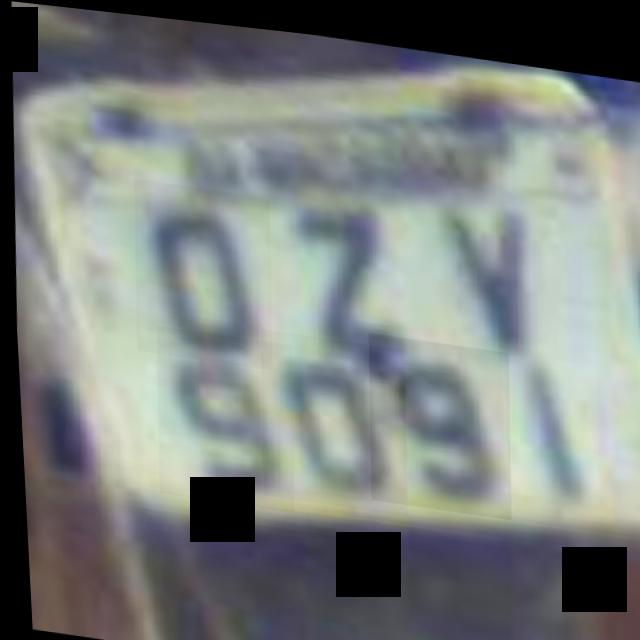0: (251, 322, 408, 507)
1: (493, 341, 599, 492)
9: (359, 323, 512, 509), (147, 322, 295, 506)
O: (126, 175, 274, 364)
Y: (418, 175, 555, 355)
Z: (267, 185, 418, 342)
